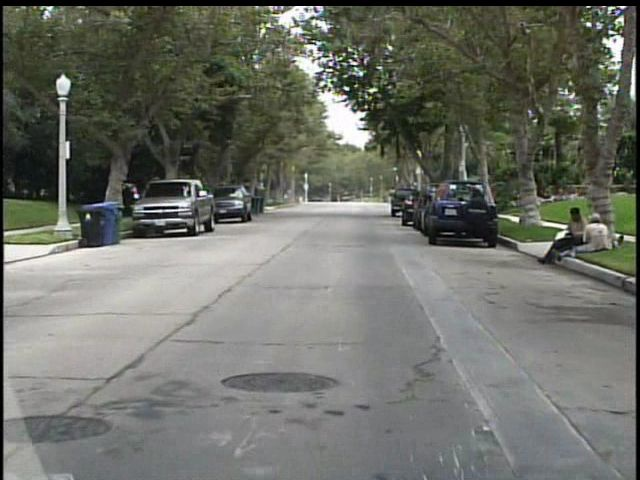person: (538, 206, 586, 266), (577, 210, 611, 252)
